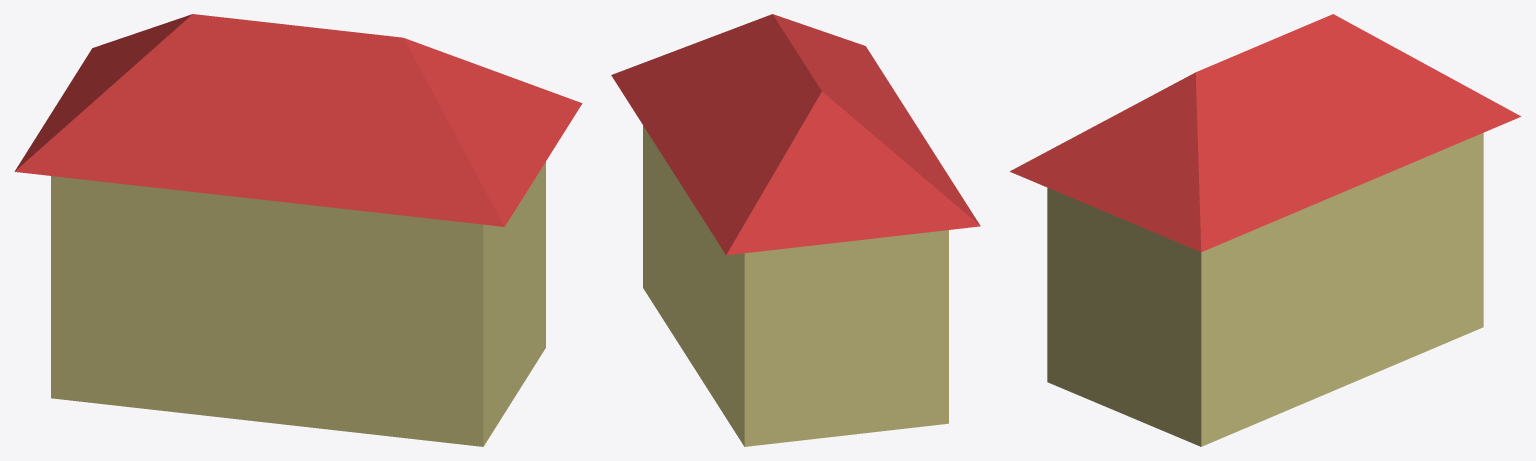
The picture shows the model from 3 angles, left to right: view 1: azimuth 30°, elevation 25°; view 2: azimuth 150°, elevation 25°; view 3: azimuth 270°, elevation 25°; orthographic projection. The views are drawn at different scales.
Visible parts, largest first — view 1: group_5, group_3, group_4; view 2: group_5, group_3, group_4; view 3: group_5, group_3, group_4.
Part boxes in pixels (bbox=[...]): group_5: bbox=[51, 162, 545, 446]; group_3: bbox=[14, 14, 582, 226]; group_4: bbox=[243, 162, 504, 226]; group_5: bbox=[643, 125, 948, 446]; group_3: bbox=[626, 14, 980, 255]; group_4: bbox=[611, 40, 977, 255]; group_5: bbox=[1047, 133, 1483, 446]; group_3: bbox=[1010, 14, 1515, 251]; group_4: bbox=[1200, 96, 1520, 251].
Size of the model in its own units: 19.18 by 19.16 by 12.84.
